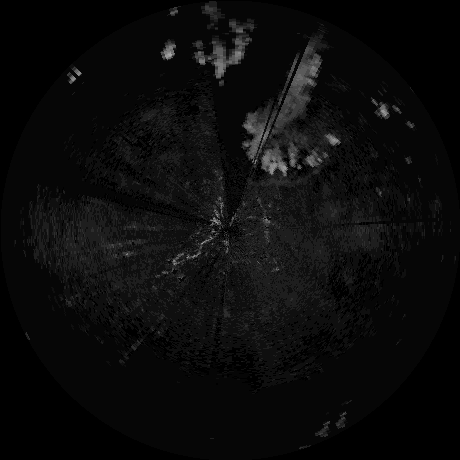frontgust: (247, 174, 314, 188)
